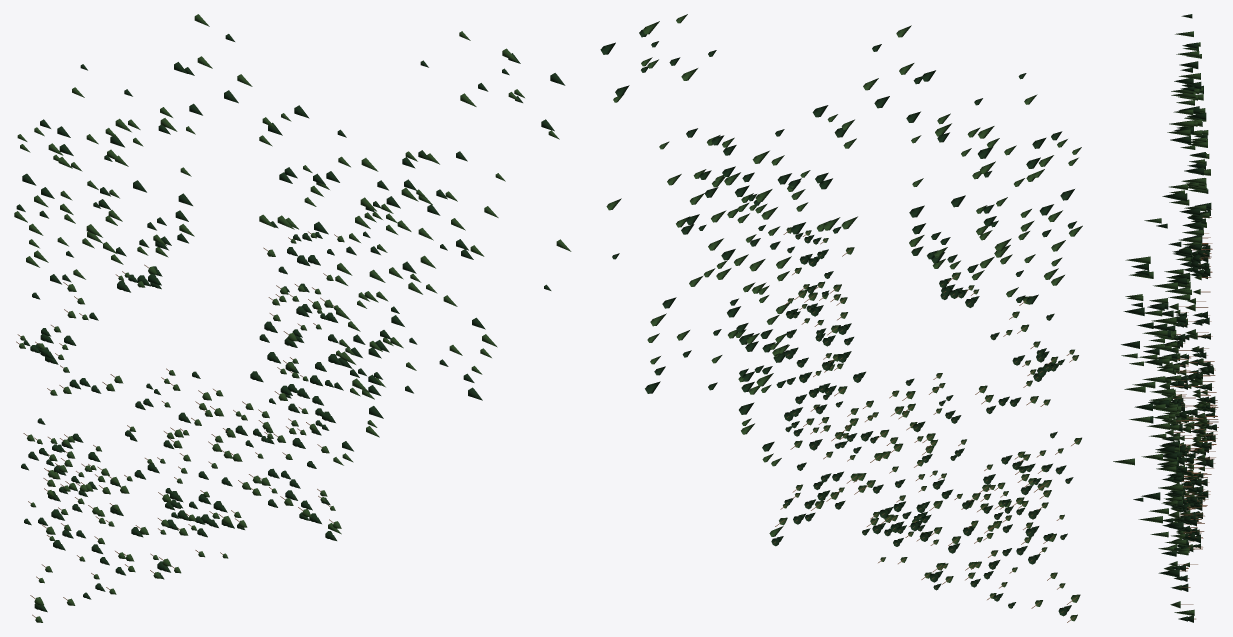
The model's file is forest_15.obj.
3 renders of one model, left to right at view 1: azimuth 30°, elevation 25°; view 2: azimuth 150°, elevation 25°; view 3: azimuth 270°, elevation 25°, orthographic. The views are drawn at different scales.
Bounding box in the file's own units: 501 × 525 × 97.75.
